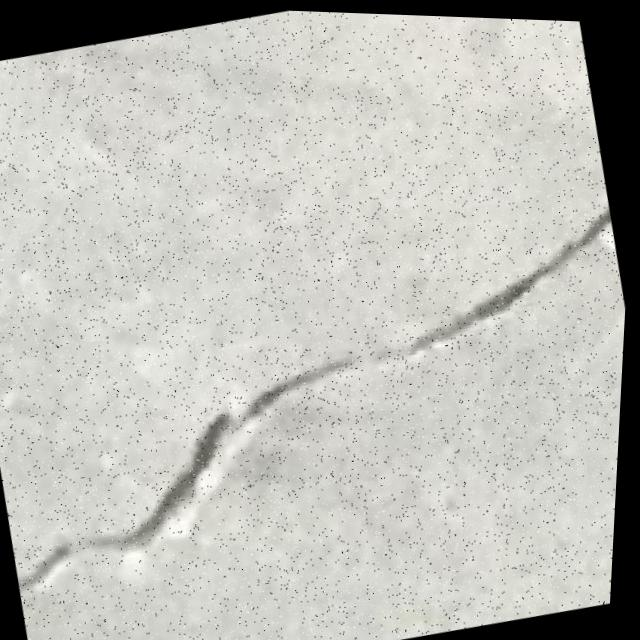Crack: (0, 172, 633, 626)
